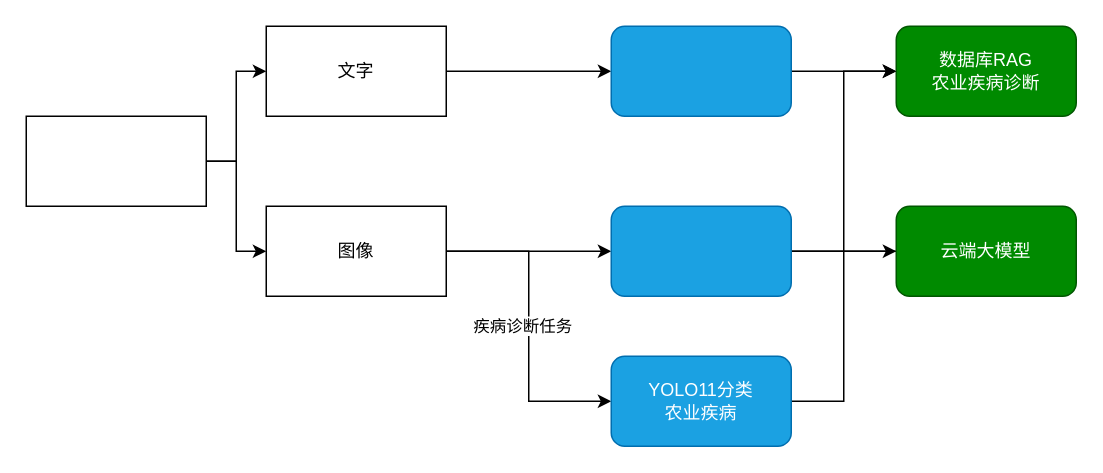
Some shapes in this 1103 by 473 pixel diagram are drawn without their labels. The shapes that lost their labels are listed below. From the top down, each one's centre as x and y in pixels, then its label:
At pixel 700 70: "LLM 农业知识问答".
At pixel 115 160: "用户输入".
At pixel 700 250: "VLM 描述图像内容".
